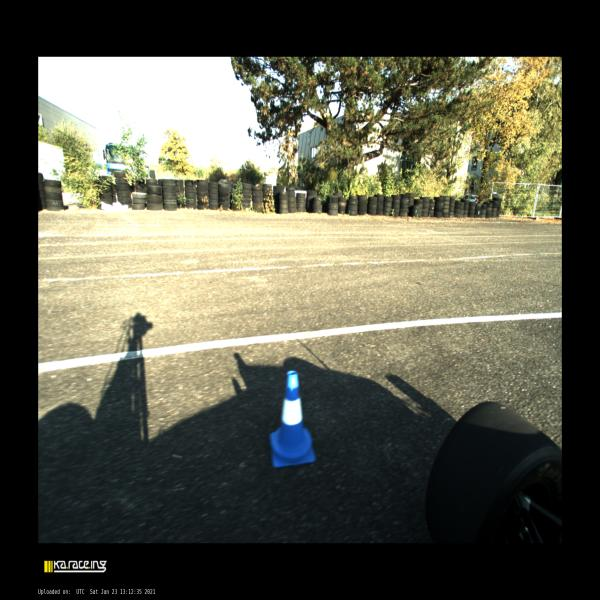blue_cone: (269, 371, 316, 468)
